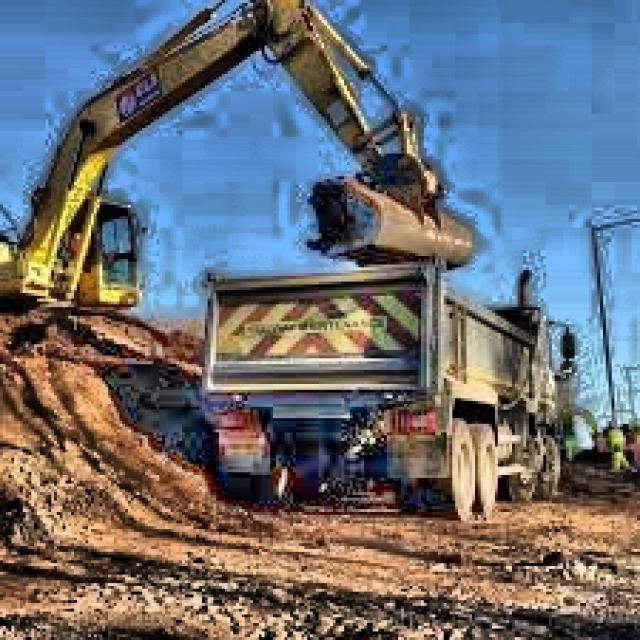dump_truck: (180, 255, 576, 539)
